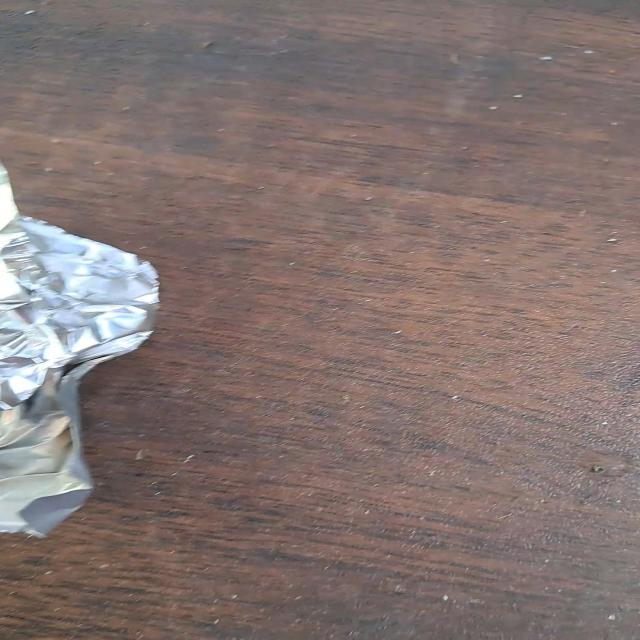Anorganik: (0, 162, 156, 536)
